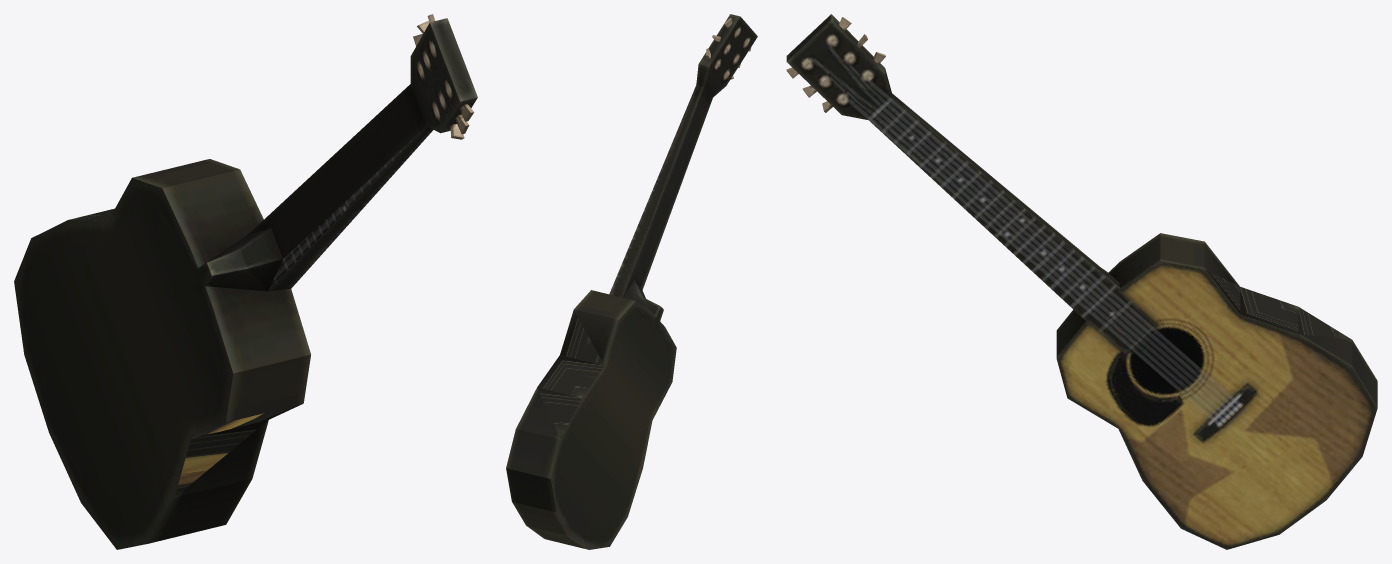
Rendered from Monkey_starGuitar.obj.
3 renders of one model, left to right at view 1: azimuth 30°, elevation 25°; view 2: azimuth 150°, elevation 25°; view 3: azimuth 270°, elevation 25°, orthographic. The views are drawn at different scales.
Visible parts, largest first — view 1: Monkey_starGuitar_tri; view 2: Monkey_starGuitar_tri; view 3: Monkey_starGuitar_tri.
Part boxes in pixels (x1,y1,x2,y2): Monkey_starGuitar_tri: (14, 14, 477, 549); Monkey_starGuitar_tri: (506, 14, 757, 549); Monkey_starGuitar_tri: (786, 14, 1377, 549).
Size of the model in its own units: 0.0894 by 0.7726 by 0.7901.
1 material, 1 textured.
